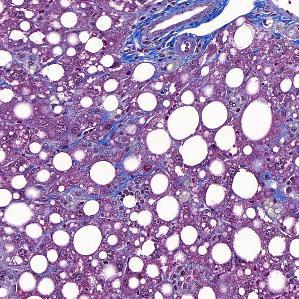fibrosis: (124, 8, 208, 66)
